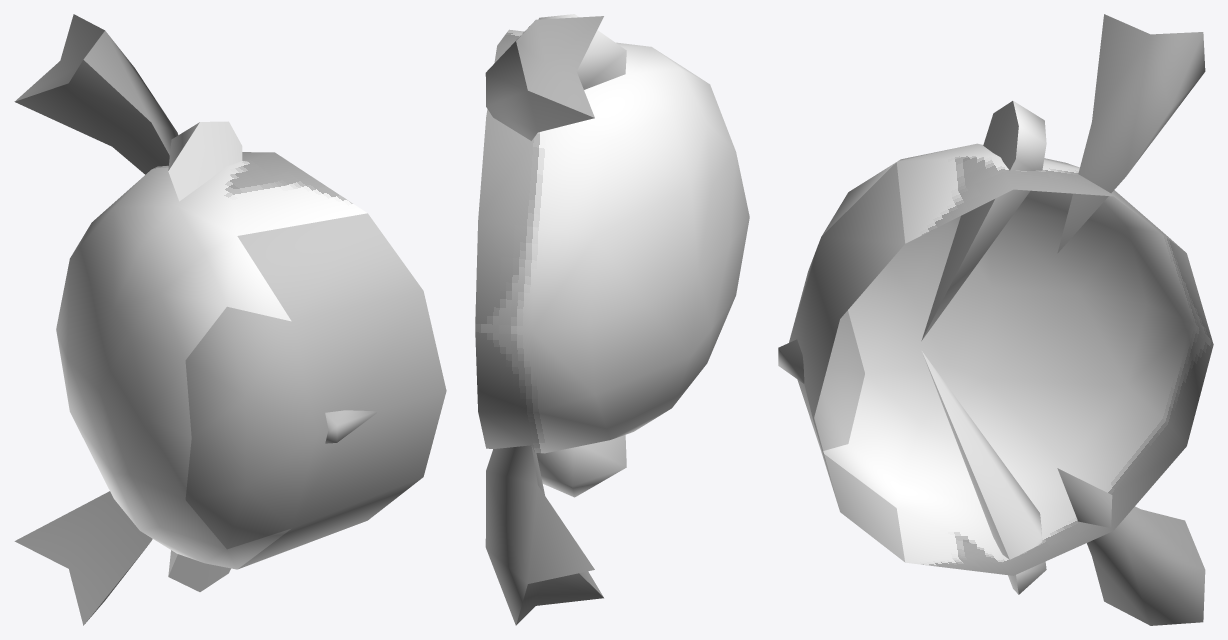
File: girl03b.dae
3 renders of one model, left to right at view 1: azimuth 30°, elevation 25°; view 2: azimuth 150°, elevation 25°; view 3: azimuth 270°, elevation 25°, orthographic. The views are drawn at different scales.
Visible parts, largest first — view 1: vsn_mesh_1_, vsn_mesh_0_, vsn_mesh_2_; view 2: vsn_mesh_1_; view 3: vsn_mesh_1_, vsn_mesh_0_, vsn_mesh_2_.
Boxes of the visible parts, bbox=[...] form: vsn_mesh_1_: bbox=[14, 14, 367, 625]; vsn_mesh_0_: bbox=[237, 213, 446, 569]; vsn_mesh_2_: bbox=[185, 306, 316, 549]; vsn_mesh_1_: bbox=[475, 14, 749, 625]; vsn_mesh_1_: bbox=[821, 14, 1213, 625]; vsn_mesh_0_: bbox=[778, 162, 905, 562]; vsn_mesh_2_: bbox=[789, 239, 864, 450].
Size of the model in its own units: 15.5 by 32.37 by 21.59.
